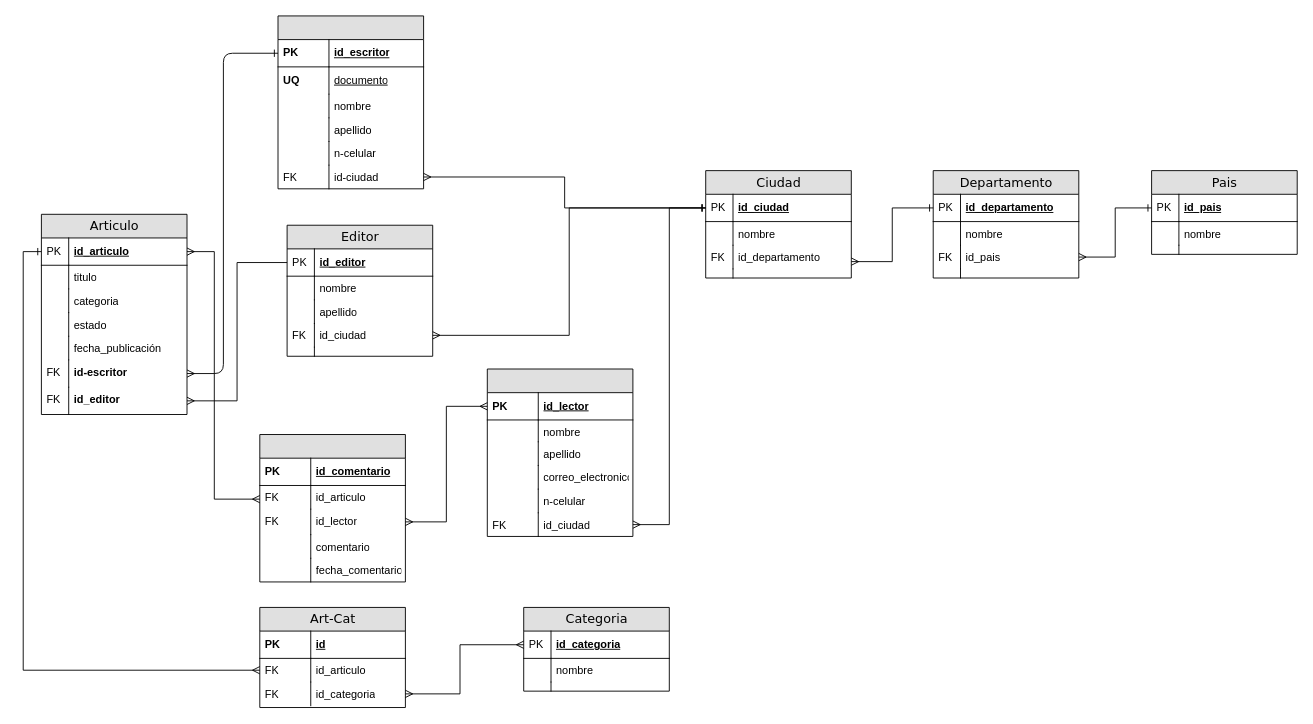
Image size: 1313x724. Some labels were removed from this diagram. Each missing label, with the box of its shape:
Comentarios: (259, 434, 405, 582)
Escritores: (277, 15, 424, 189)
Lectores: (486, 368, 633, 536)
